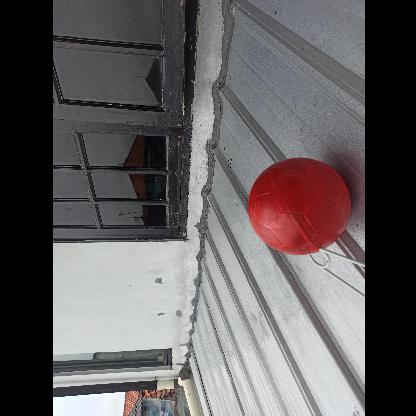red_ball: (247, 155, 349, 257)
